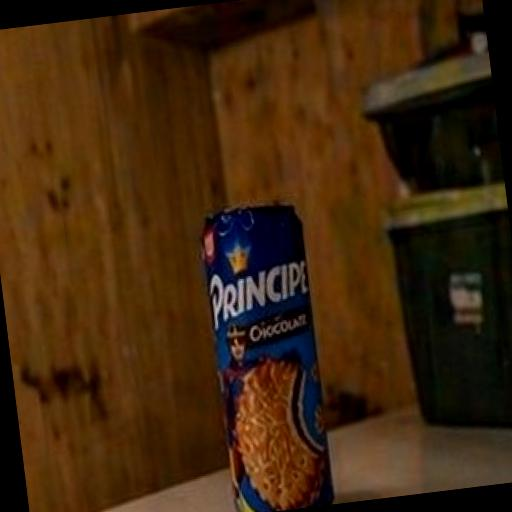prince: (124, 163, 423, 512)
